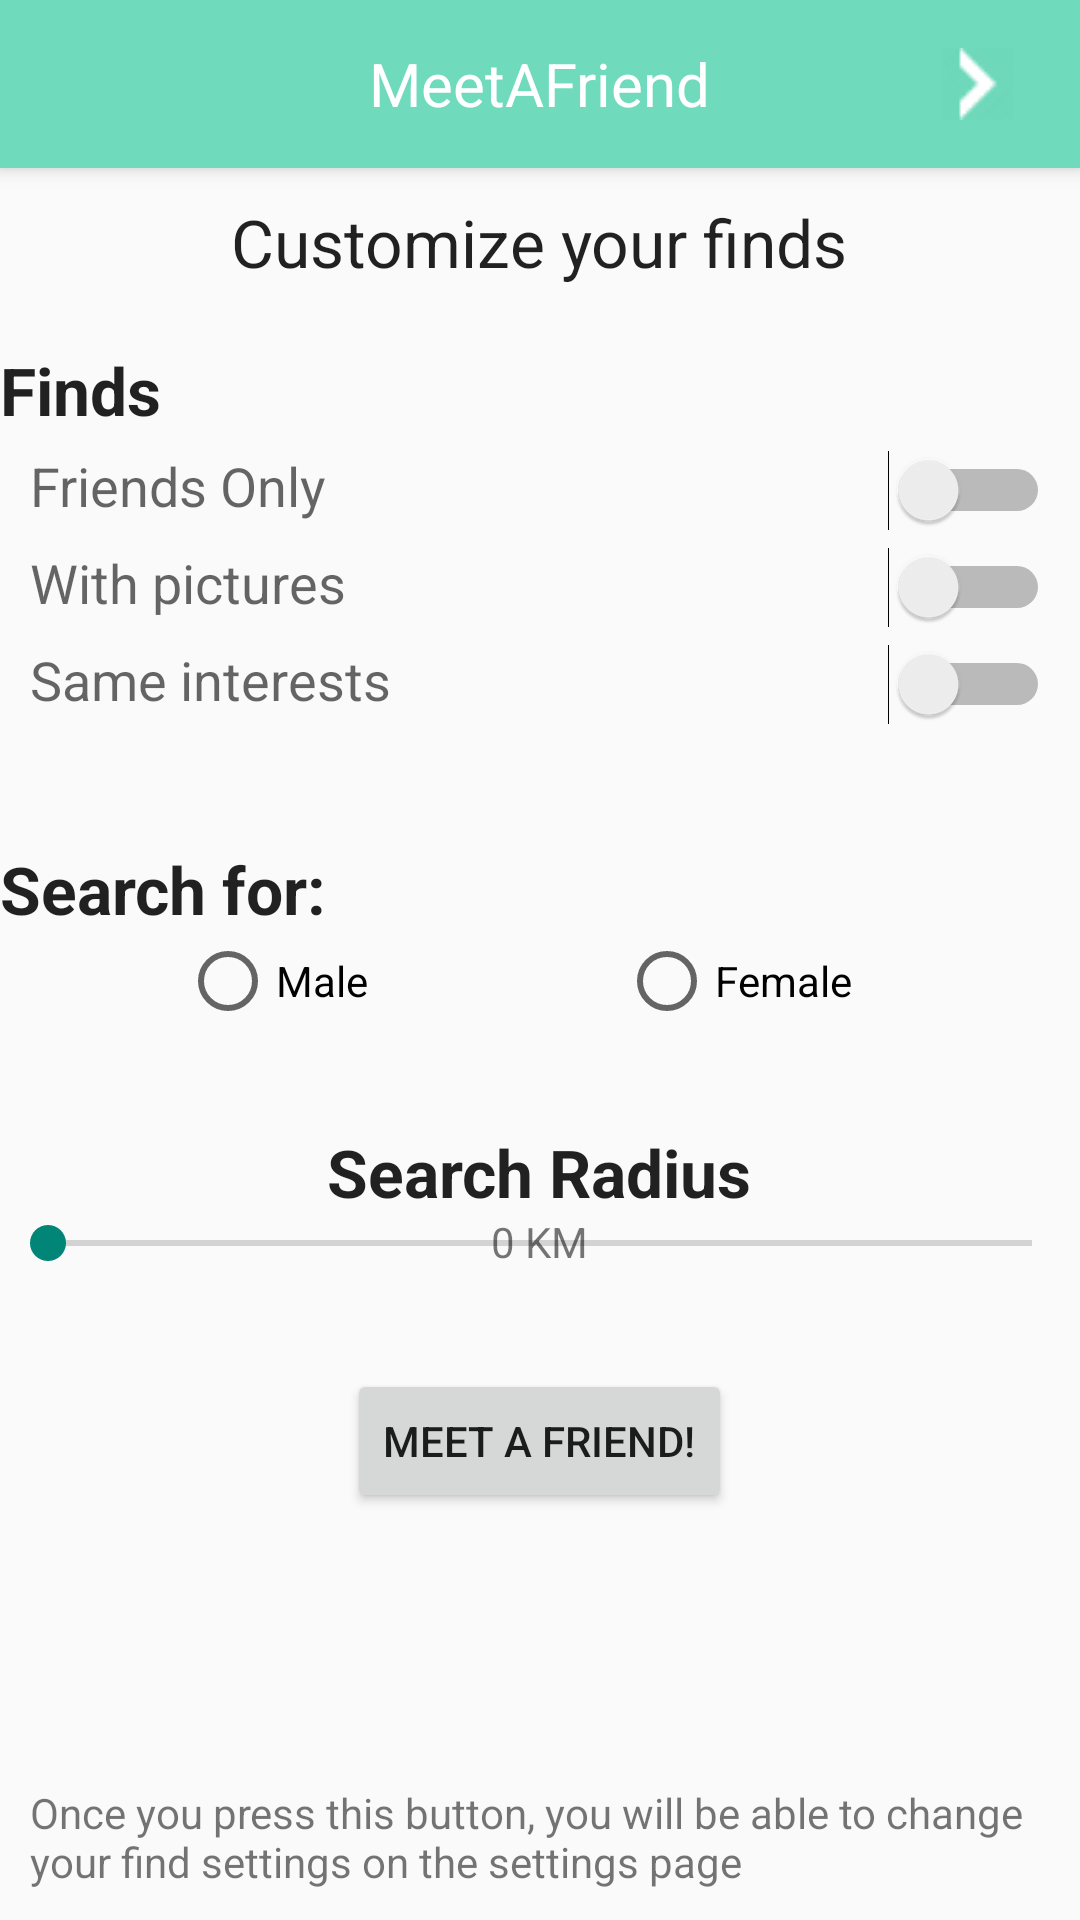

Screen size 1080*1920. Icon name, then its center in pixels as (x=x, y=y):
arrow: (x=978, y=84)
